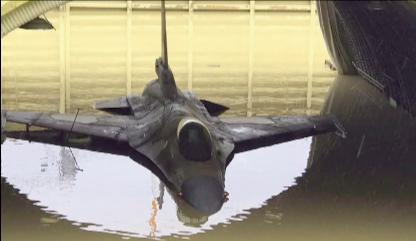F14: (1, 1, 346, 214)
